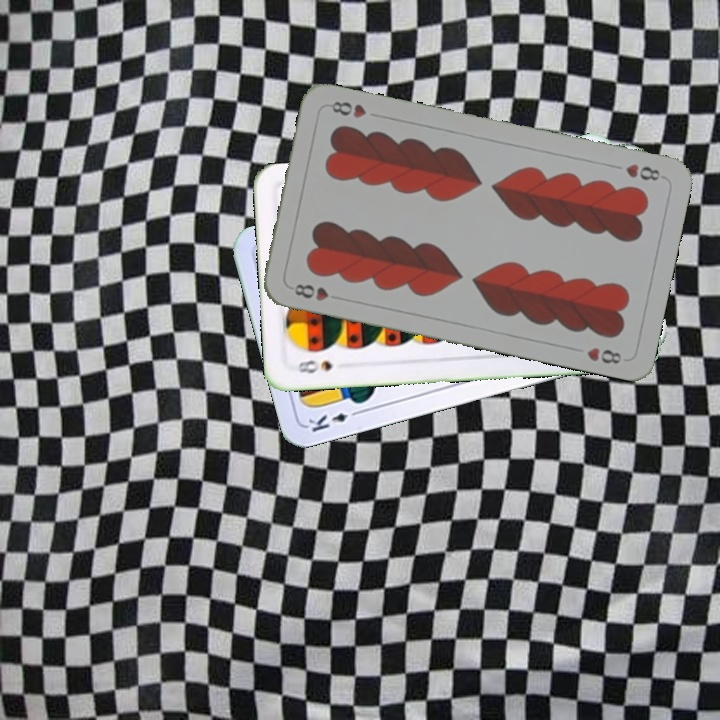EK: (304, 406, 363, 435)
H8: (290, 280, 345, 304), (621, 159, 667, 184)
S8: (294, 355, 336, 377)
